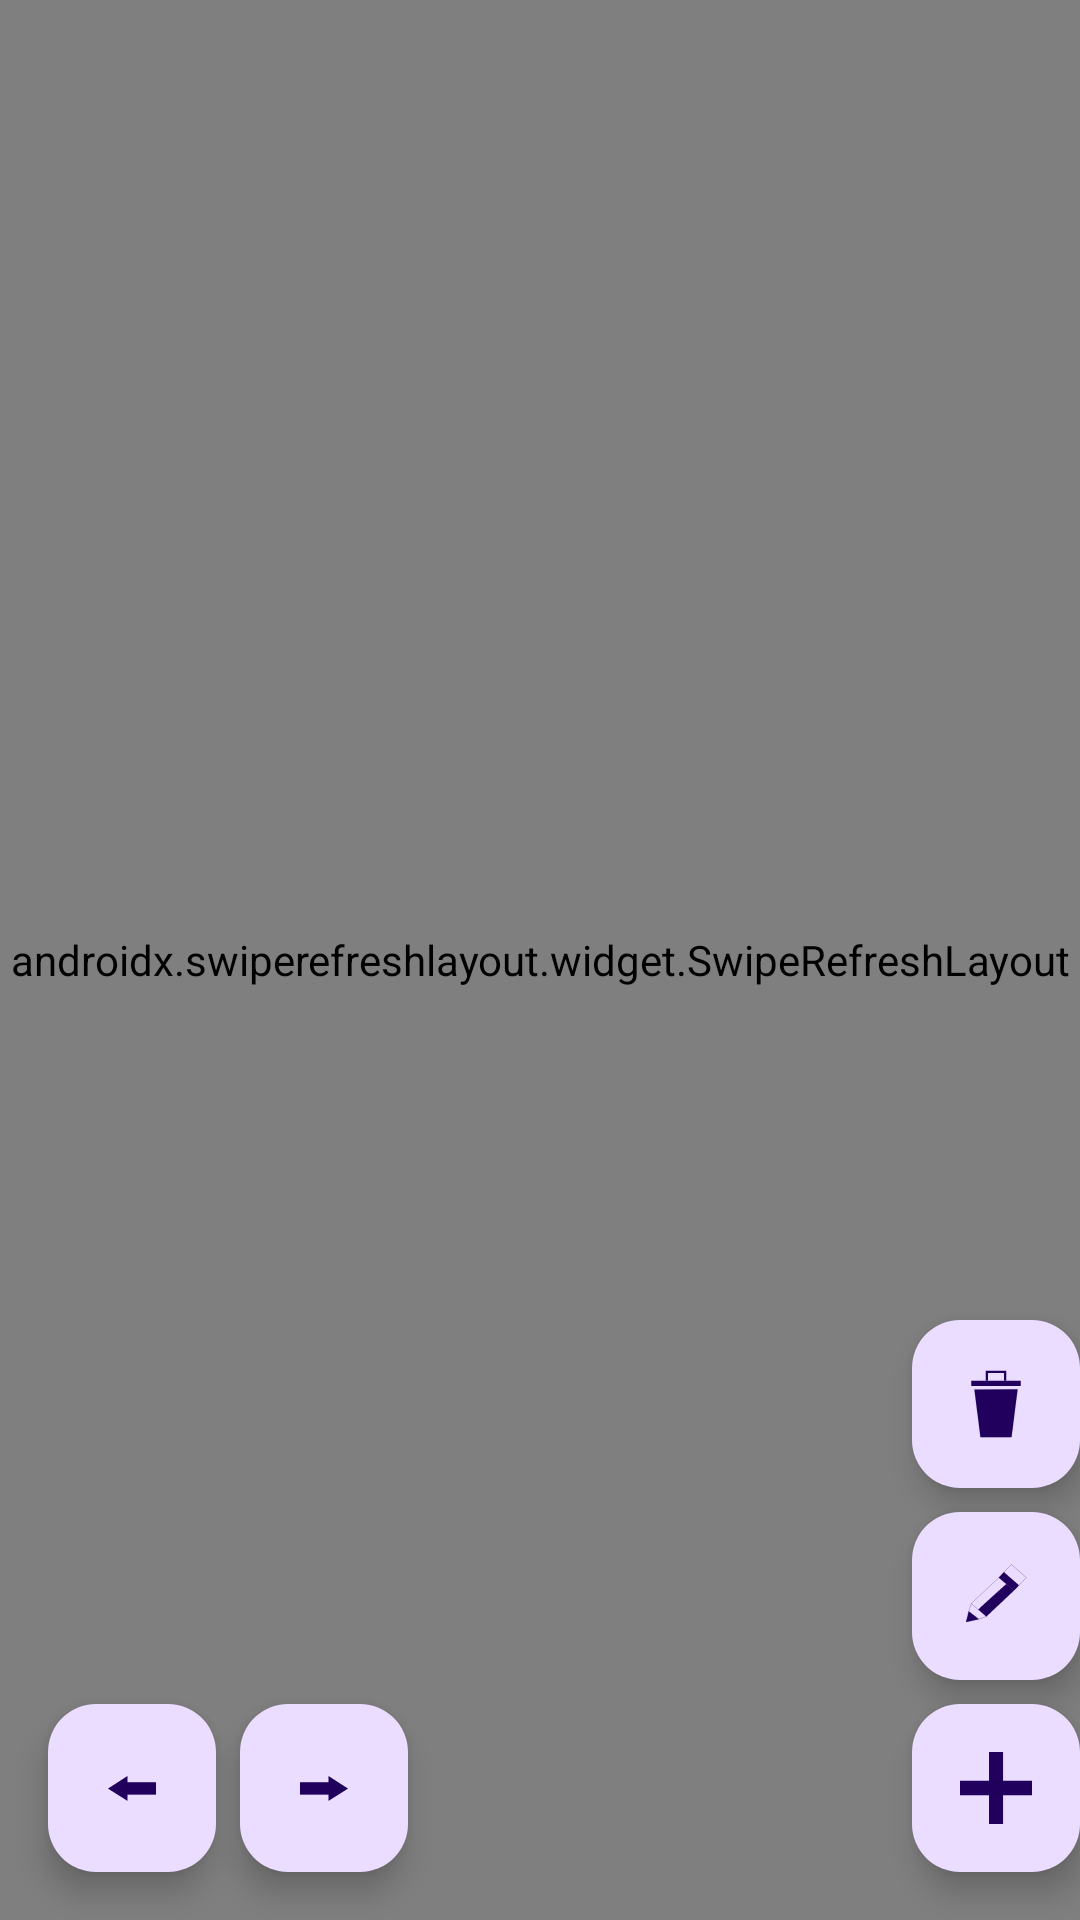

Named icons in this screenshot (1080*1920) and their centers, (x=x, y=y):
Add: (x=996, y=1788)
Back: (x=132, y=1788)
Edit item: (x=996, y=1596)
Next: (x=324, y=1788)
Remove: (x=996, y=1404)
